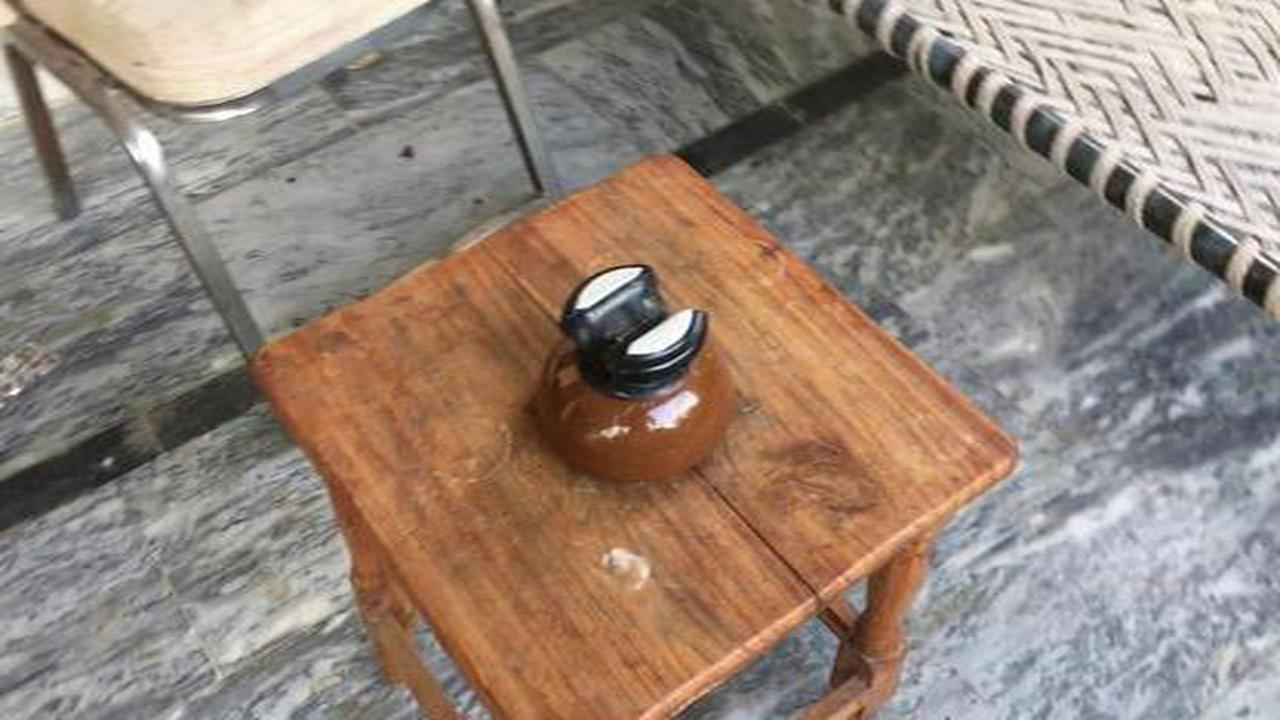insulator_pin: (505, 248, 751, 497)
